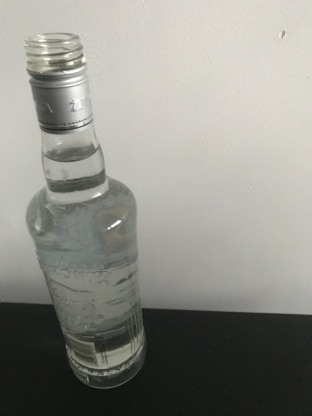nakretka: (21, 31, 95, 135)
